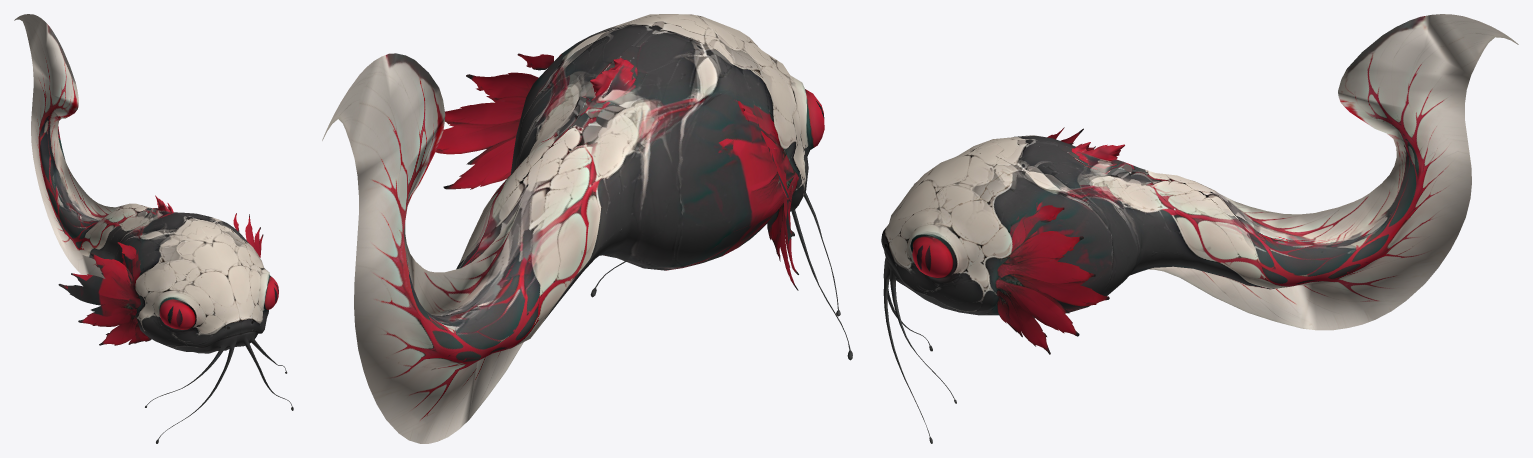
The model's file is tadpole_rtp.glb.
The picture shows the model from 3 angles, left to right: view 1: azimuth 30°, elevation 25°; view 2: azimuth 150°, elevation 25°; view 3: azimuth 270°, elevation 25°; orthographic projection. The views are drawn at different scales.
Parts seen in each view (by area): view 1: tripo_node_2876a594-40f5-467f-b5d9-6737a6b2e3b2; view 2: tripo_node_2876a594-40f5-467f-b5d9-6737a6b2e3b2; view 3: tripo_node_2876a594-40f5-467f-b5d9-6737a6b2e3b2.
Boxes of the visible parts, x1,y1,x2,y2 form: tripo_node_2876a594-40f5-467f-b5d9-6737a6b2e3b2: (14,14,293,443); tripo_node_2876a594-40f5-467f-b5d9-6737a6b2e3b2: (322,14,852,443); tripo_node_2876a594-40f5-467f-b5d9-6737a6b2e3b2: (881,14,1518,443).
Size of the model in its own units: 0.5171 by 0.6636 by 0.9995.
1 material, 1 textured.
